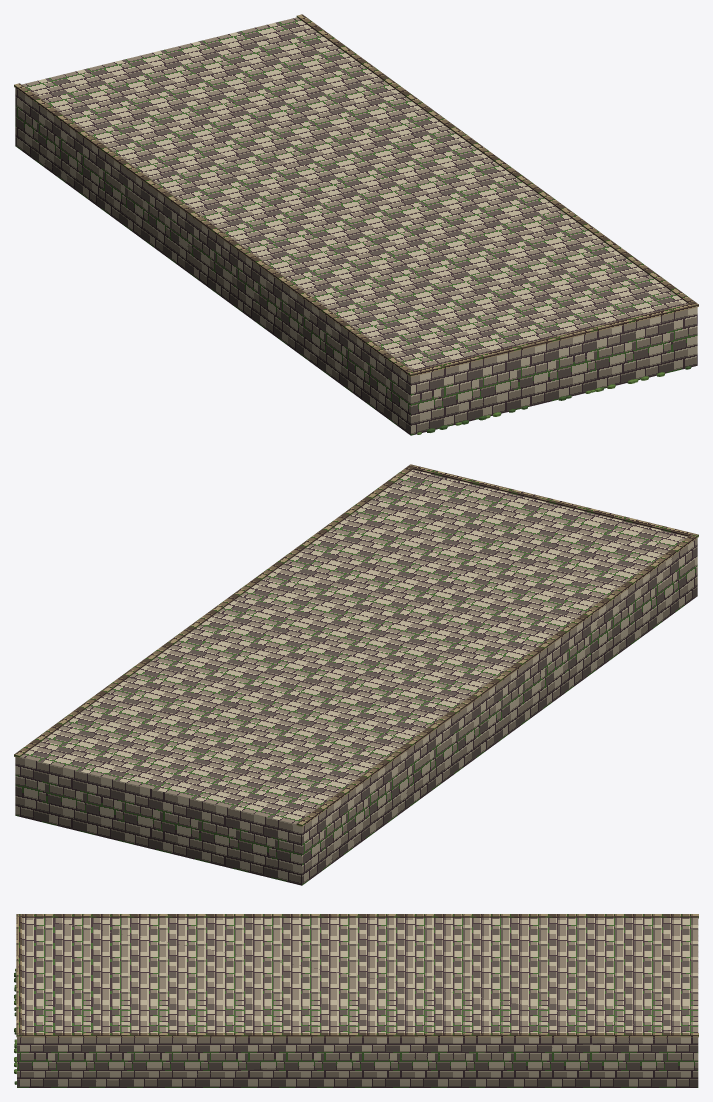
File: scene_wall_e.glb
3 renders of one model, top to bottom at view 1: azimuth 30°, elevation 25°; view 2: azimuth 150°, elevation 25°; view 3: azimuth 270°, elevation 25°, orthographic. The views are drawn at different scales.
Visible parts, largest first — view 1: scene_wall_e; view 2: scene_wall_e; view 3: scene_wall_e.
Boxes of the visible parts, x1,y1,x2,y2 form: scene_wall_e: [14, 14, 698, 435]; scene_wall_e: [14, 464, 698, 885]; scene_wall_e: [14, 914, 698, 1087].
Bounding box in the file's own units: 18.1 × 3.77 × 43.24.
2 materials, 1 textured.
